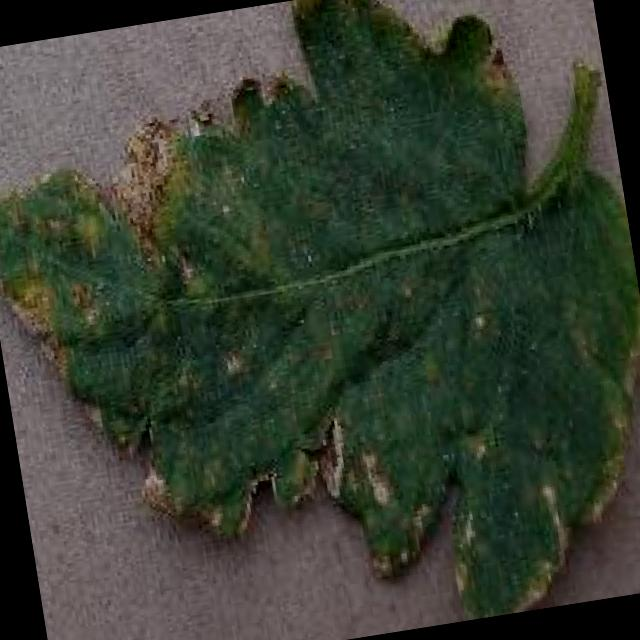bacterial spot: (0, 0, 640, 620)
